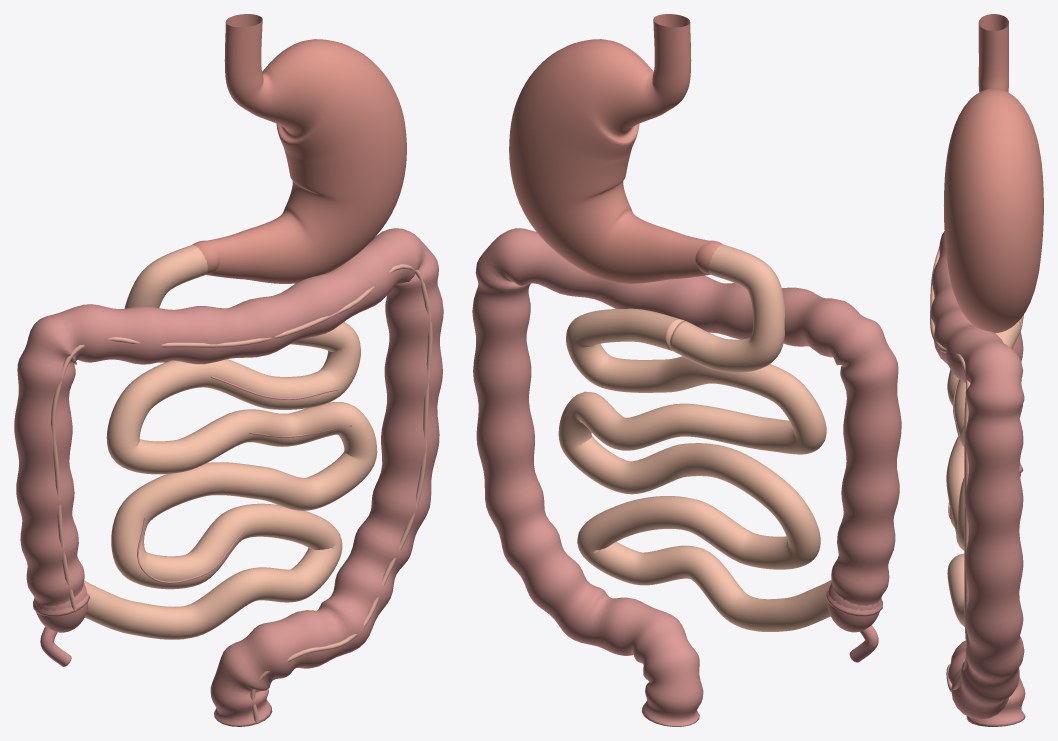
The model's file is digestive-system.glb.
3 views of the same model, side by side, from view 1: azimuth 30°, elevation 25°; view 2: azimuth 150°, elevation 25°; view 3: azimuth 270°, elevation 25° (orthographic).
Visible parts, largest first — view 1: cecum ascending transverse descending sigmoid rectum, continuous jejunum and ileum, stomach fundus body antrum, anterior taenia coli, duodenum, rounded cecal pouch; view 2: cecum ascending transverse descending sigmoid rectum, continuous jejunum and ileum, stomach fundus body antrum, duodenum, rounded cecal pouch; view 3: cecum ascending transverse descending sigmoid rectum, stomach fundus body antrum, continuous jejunum and ileum, anterior taenia coli.
Part boxes in pixels (box(x1,y1,x2,y2)): cecum ascending transverse descending sigmoid rectum: box(14, 228, 443, 726); continuous jejunum and ileum: box(84, 322, 377, 639); stomach fundus body antrum: box(206, 14, 406, 283); anterior taenia coli: box(51, 264, 432, 723); duodenum: box(124, 244, 208, 362); rounded cecal pouch: box(34, 583, 87, 632); cecum ascending transverse descending sigmoid rectum: box(472, 228, 901, 726); continuous jejunum and ileum: box(558, 308, 831, 631); stomach fundus body antrum: box(509, 14, 709, 283); duodenum: box(669, 244, 784, 372); rounded cecal pouch: box(827, 583, 881, 632); cecum ascending transverse descending sigmoid rectum: box(930, 231, 1025, 726); stomach fundus body antrum: box(943, 14, 1043, 332); continuous jejunum and ileum: box(946, 320, 1021, 626); anterior taenia coli: box(930, 248, 970, 717).
Bounding box in the file's own units: 4.27 × 6.73 × 0.9951.
